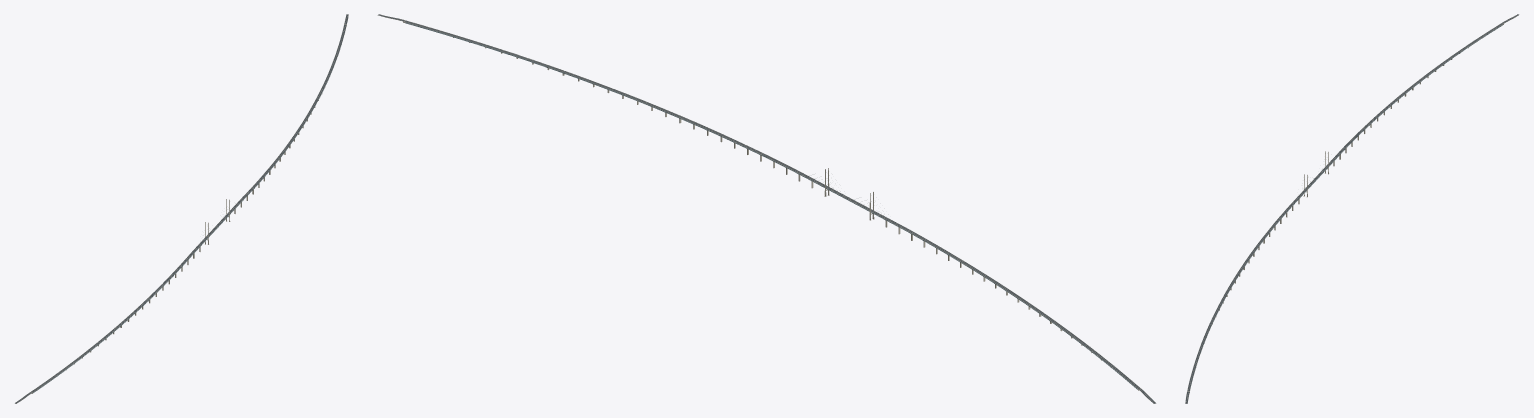
The model's file is oresund-bridge-far.glb.
The picture shows the model from 3 angles, left to right: view 1: azimuth 90°, elevation 25°; view 2: azimuth 150°, elevation 25°; view 3: azimuth 270°, elevation 25°; orthographic projection. The views are drawn at different scales.
Parts seen in each view (by area): view 1: oresund-bridge-0-asphalt, oresund-bridge-0-concrete, oresund-bridge-0-steel; view 2: oresund-bridge-0-concrete, oresund-bridge-0-asphalt, oresund-bridge-0-steel; view 3: oresund-bridge-0-asphalt, oresund-bridge-0-concrete, oresund-bridge-0-steel.
Part boxes in pixels (x1,y1,x2,y2): oresund-bridge-0-asphalt: (15, 14, 348, 403); oresund-bridge-0-concrete: (15, 14, 348, 403); oresund-bridge-0-steel: (32, 49, 340, 393); oresund-bridge-0-concrete: (378, 14, 1155, 403); oresund-bridge-0-asphalt: (378, 14, 1155, 403); oresund-bridge-0-steel: (405, 22, 1137, 389); oresund-bridge-0-asphalt: (1185, 14, 1518, 403); oresund-bridge-0-concrete: (1185, 14, 1518, 403); oresund-bridge-0-steel: (1196, 25, 1502, 367).
Bounding box in the file's own units: 7737 × 204 × 2806.
